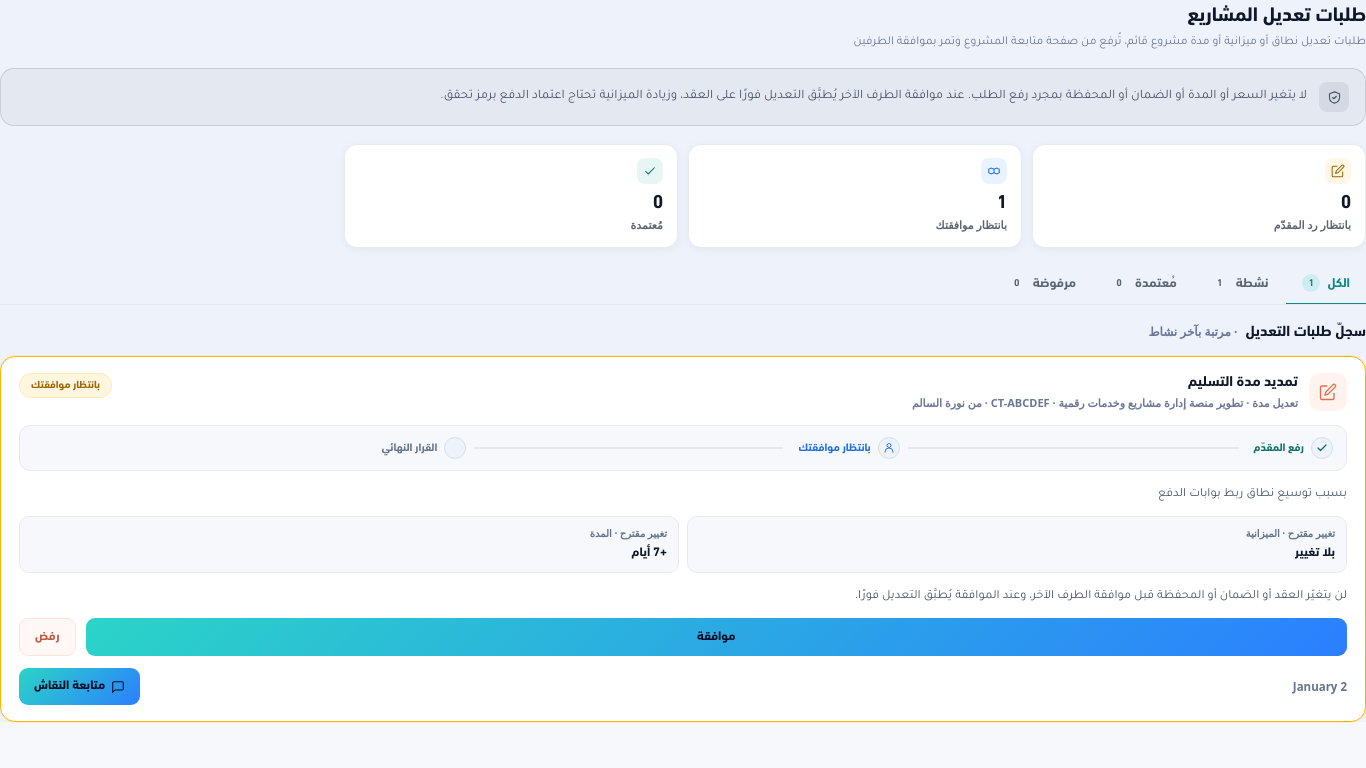
Test case: ProjectModificationsComponent › an approve failure shows an error and does NOT fake a status change
Click the button with class "dp-appr-btn": (716, 637) [86,618,1347,656]
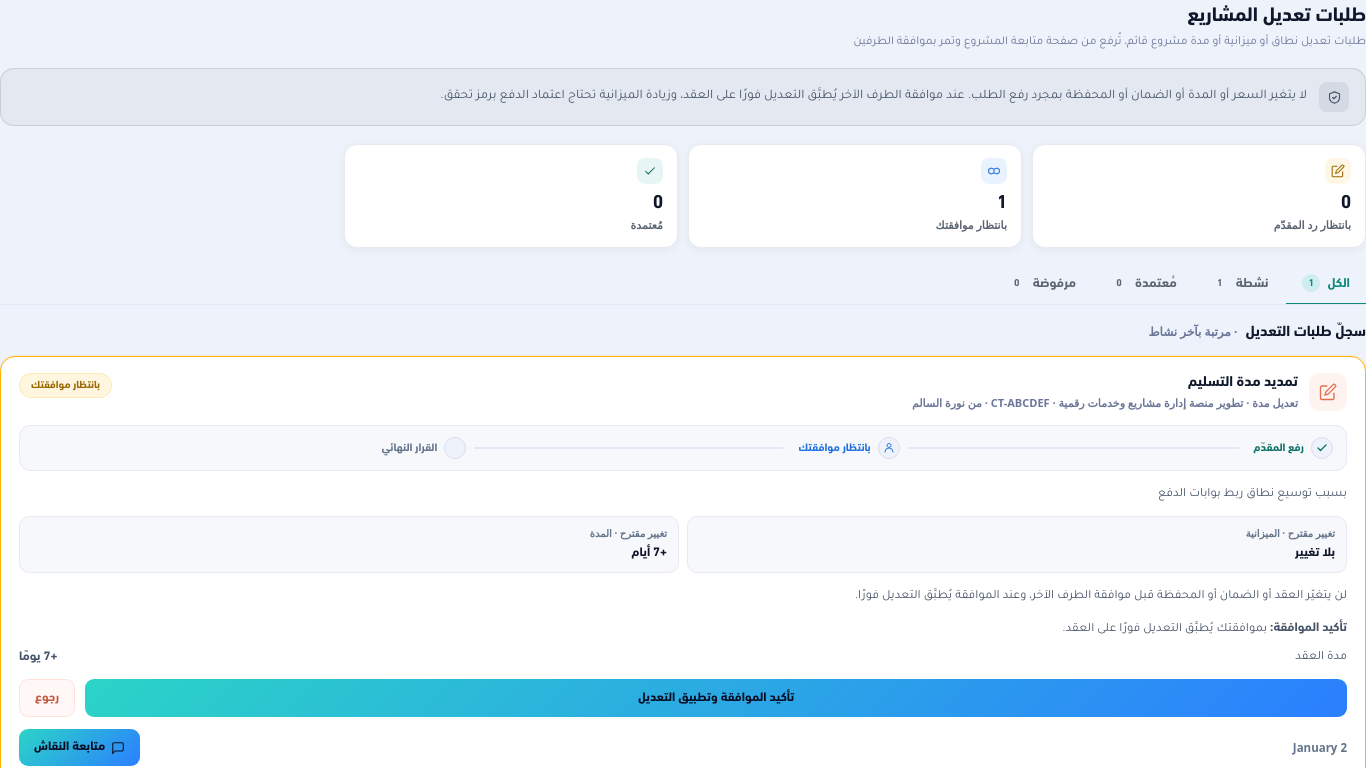
Check: the dialog with test id "am-confirm" shows "يُطبَّق التعديل فورًا", box [1062,622,1270,634]
Click the button with test id "am-confirm-yes": (716, 698) [85,678,1347,717]
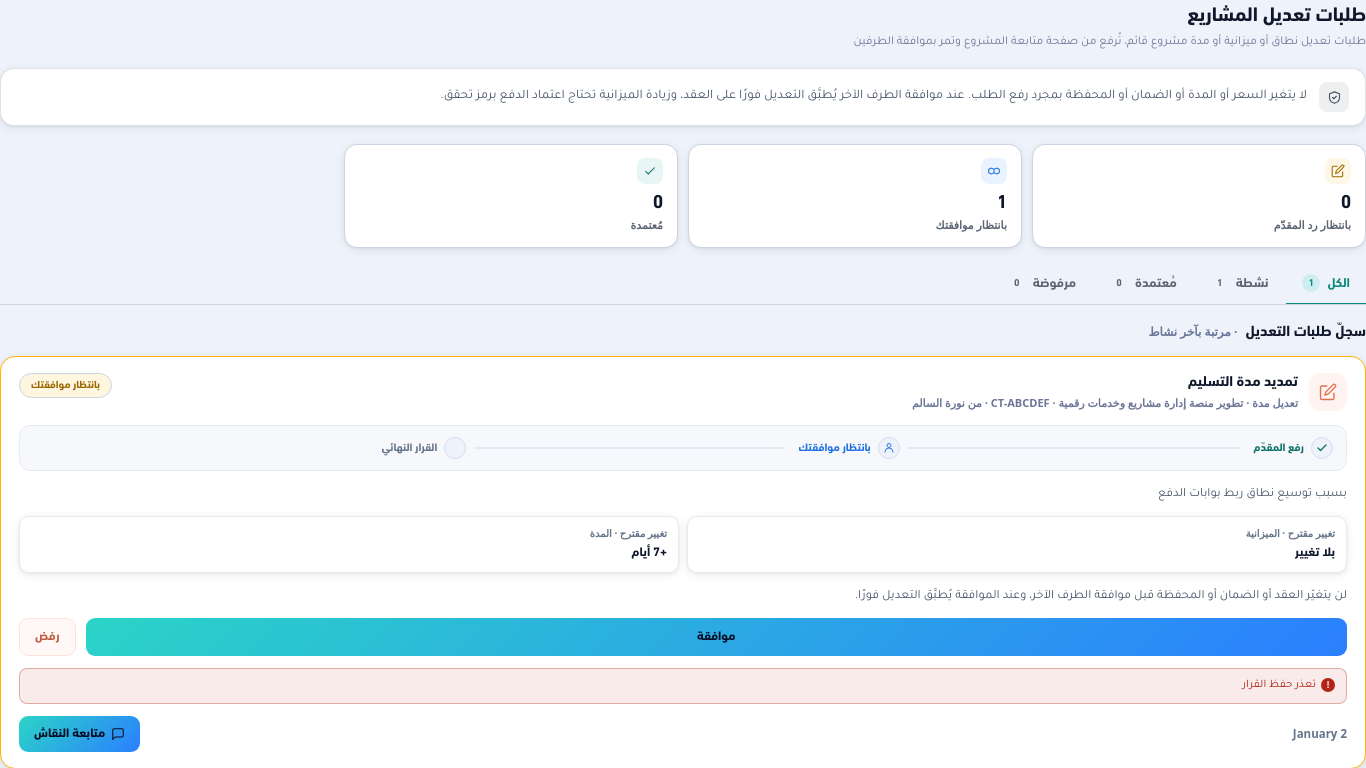
Check: the text "تعذر حفظ القرار" is shown, box [19,668,1347,704]
